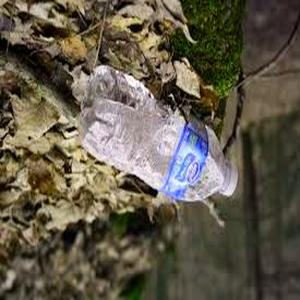Plastic: (78, 65, 241, 201)
